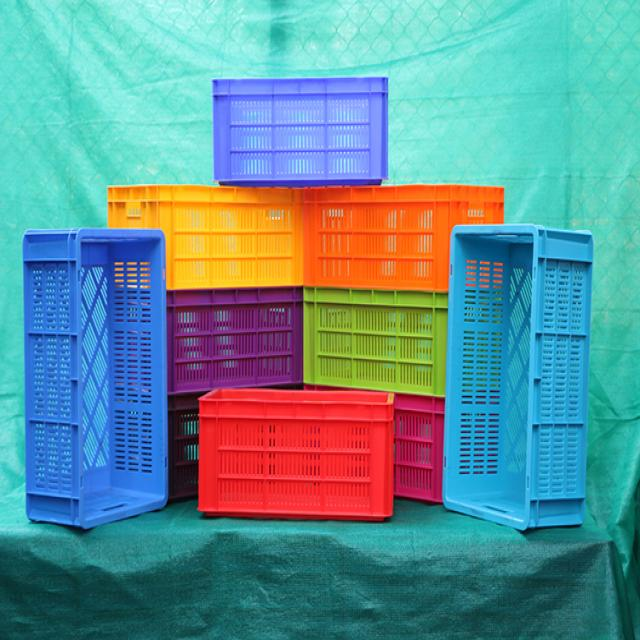basket: (443, 222, 594, 531), (23, 229, 168, 529), (197, 389, 396, 521), (301, 181, 504, 292), (107, 180, 306, 292), (213, 78, 389, 187), (301, 288, 448, 397), (167, 287, 303, 394), (394, 395, 445, 503), (168, 395, 200, 500)
